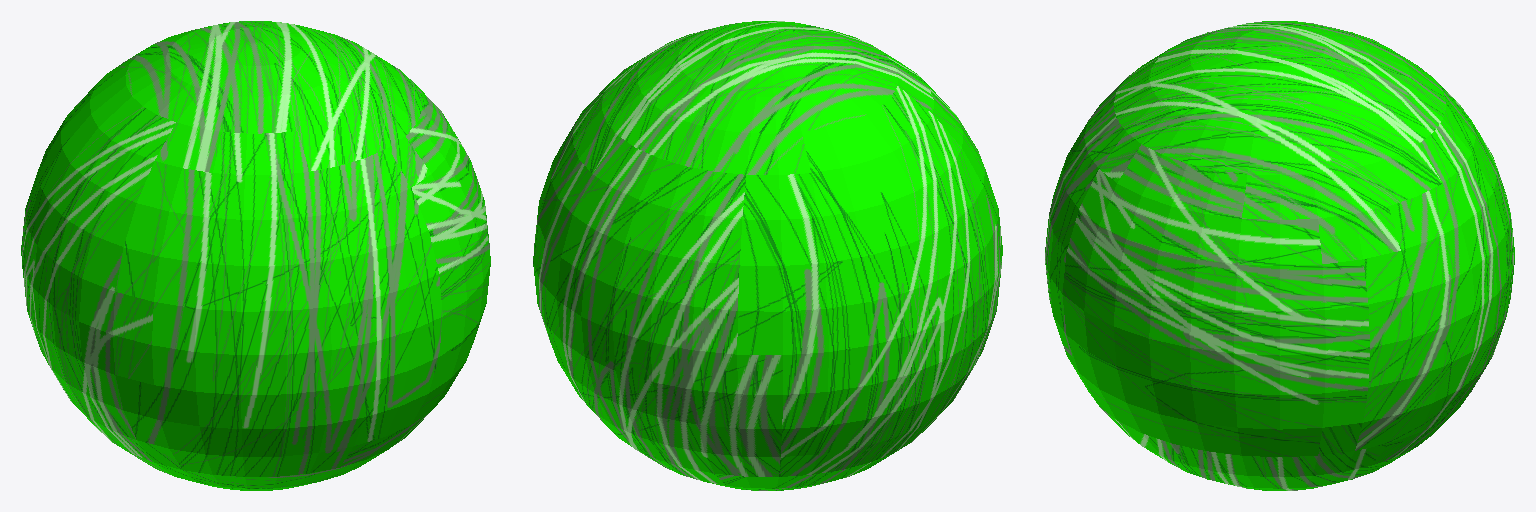
3 renders of one model, left to right at view 1: azimuth 30°, elevation 25°; view 2: azimuth 150°, elevation 25°; view 3: azimuth 270°, elevation 25°, orthographic.
Parts seen in each view (by area): view 1: 球; view 2: 球; view 3: 球.
Part boxes in pixels (left/top/right/bottom): 球: left=21, top=21, right=490, bottom=490; 球: left=533, top=21, right=1002, bottom=490; 球: left=1045, top=21, right=1514, bottom=490.
Size of the model in its own units: 2 by 2 by 2.
Materials: 1 (1 with a texture image).